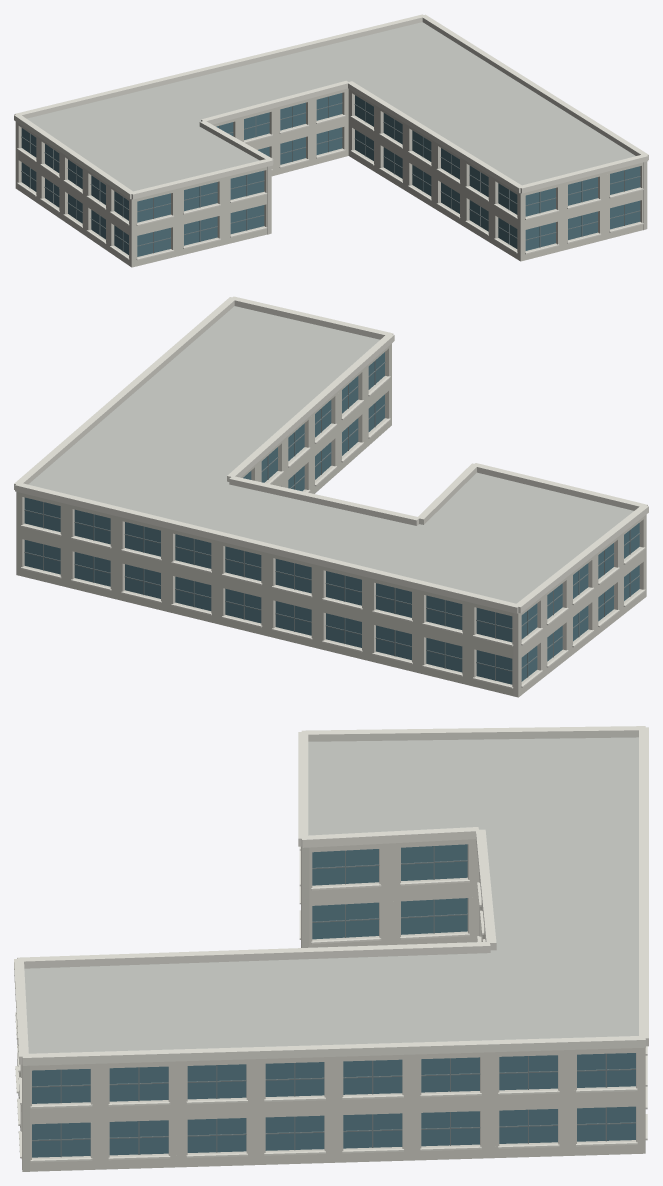
3 views of the same model, one above another, from view 1: azimuth 30°, elevation 25°; view 2: azimuth 150°, elevation 25°; view 3: azimuth 270°, elevation 25° (orthographic). The views are drawn at different scales.
Visible parts, largest first — view 1: roof, wall, glass, trim, metal; view 2: roof, wall, glass, trim, metal; view 3: roof, wall, glass, trim, metal.
Boxes of the visible parts, x1,y1,x2,y2 form: roof: [27, 22, 635, 191]; wall: [15, 88, 647, 267]; glass: [21, 93, 640, 256]; trim: [14, 14, 648, 260]; metal: [21, 96, 640, 253]; roof: [28, 306, 633, 603]; wall: [16, 343, 646, 697]; glass: [24, 352, 639, 684]; trim: [14, 296, 648, 688]; metal: [24, 360, 640, 680]; roof: [24, 737, 638, 1053]; wall: [17, 839, 645, 1171]; glass: [32, 844, 635, 1157]; trim: [14, 726, 648, 1162]; metal: [32, 846, 635, 1157].
Size of the model in its own units: 39.78 by 6.44 by 32.15.
